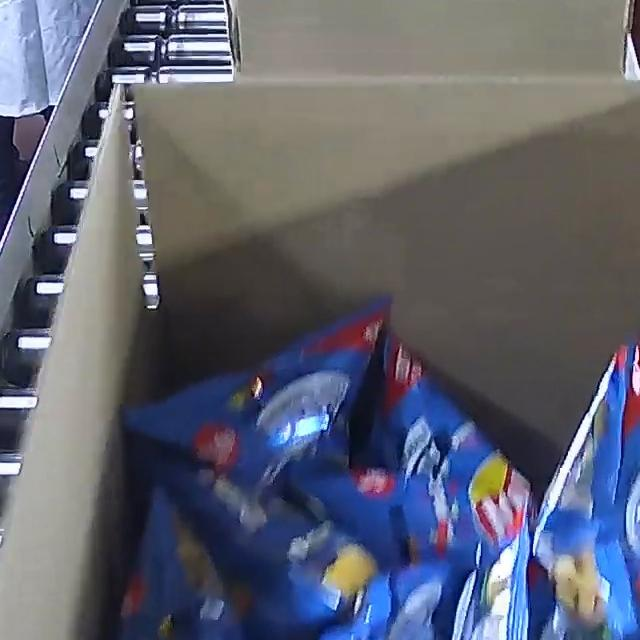paprika: (98, 298, 640, 640)
